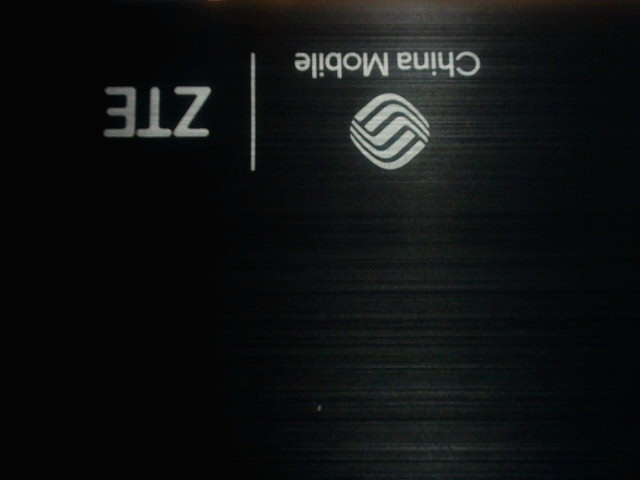AL_ZTEChinaMobile: (72, 27, 489, 178)
